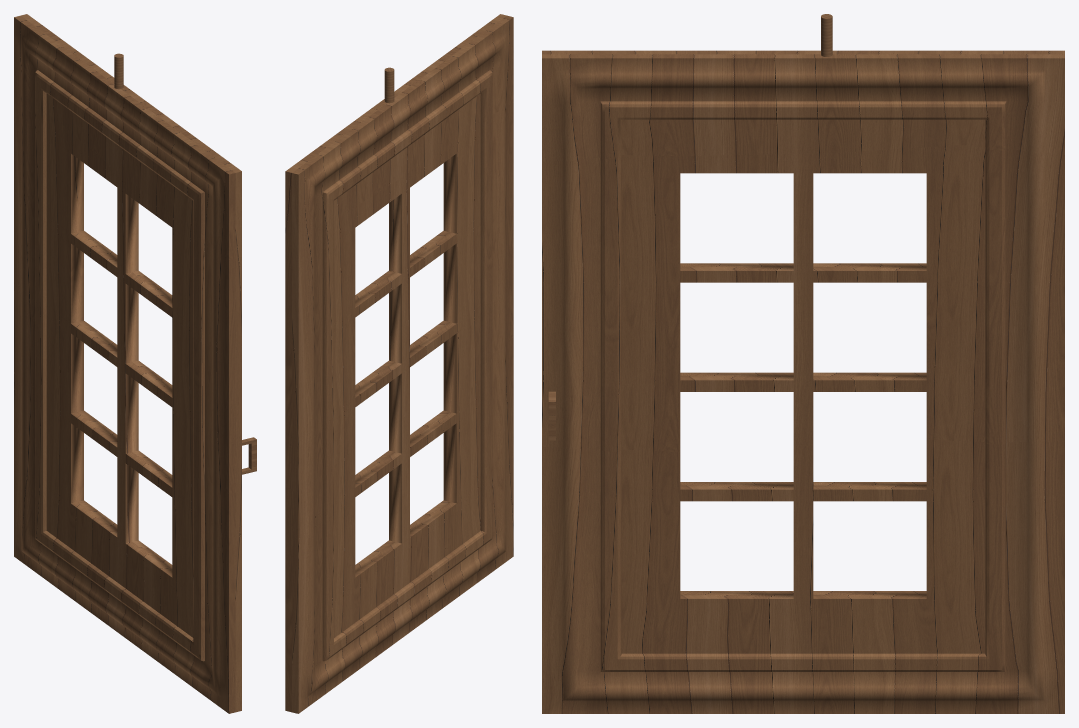
The model's file is surguluKapı.fbx.
3 renders of one model, left to right at view 1: azimuth 30°, elevation 25°; view 2: azimuth 150°, elevation 25°; view 3: azimuth 270°, elevation 25°, orthographic. The views are drawn at different scales.
Parts seen in each view (by area): view 1: Cube.002; view 2: Cube.002; view 3: Cube.002.
Part boxes in pixels (x1,y1,x2,y2): Cube.002: (14,14,256,713); Cube.002: (285,14,513,713); Cube.002: (542,14,1064,713).
Bounding box in the file's own units: 15.13 × 238 × 162.
Materials: 1 (1 with a texture image).
